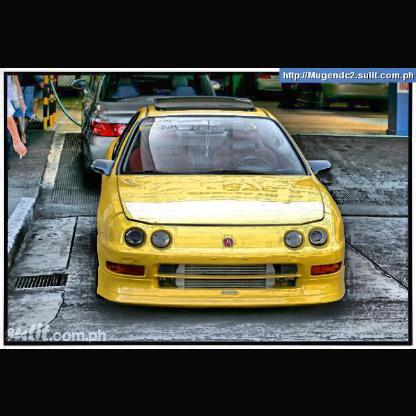Acura Integra Type R 2001: (92, 97, 347, 309)
